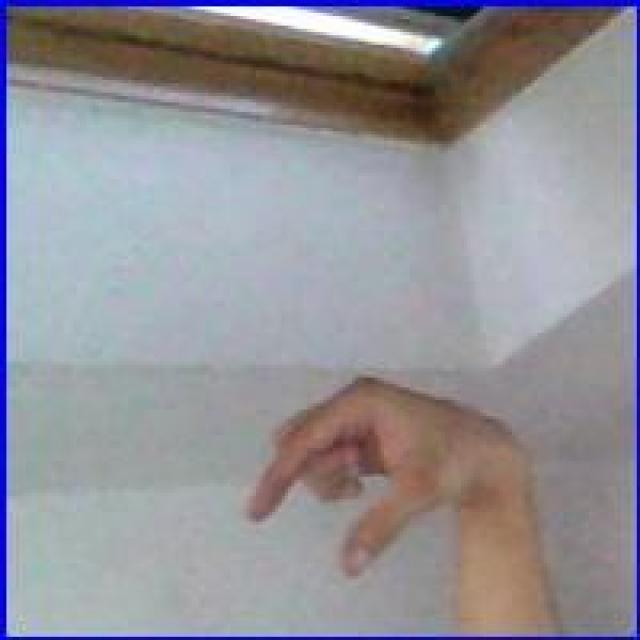Q: (235, 370, 530, 580)
